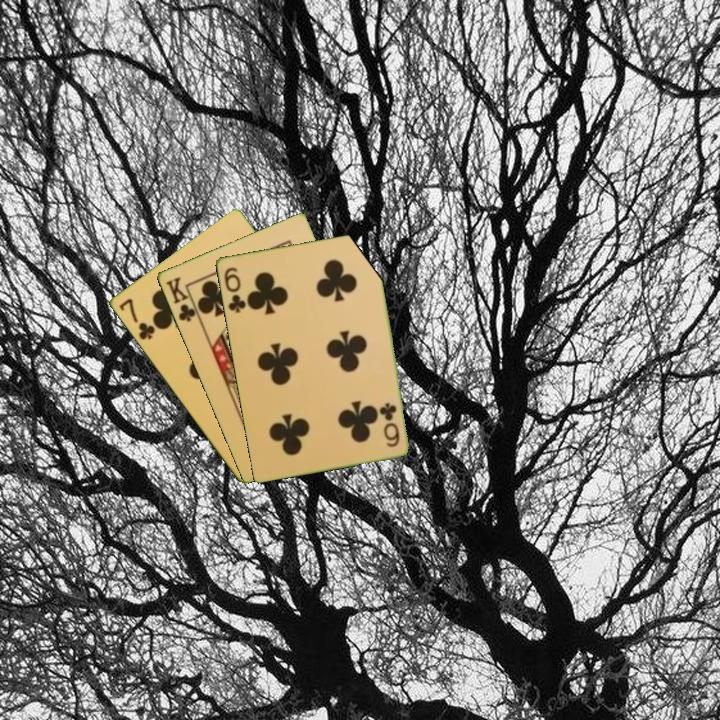6c: (220, 263, 248, 315), (378, 399, 402, 450)
7c: (115, 295, 157, 343)
Kc: (162, 273, 202, 325)
